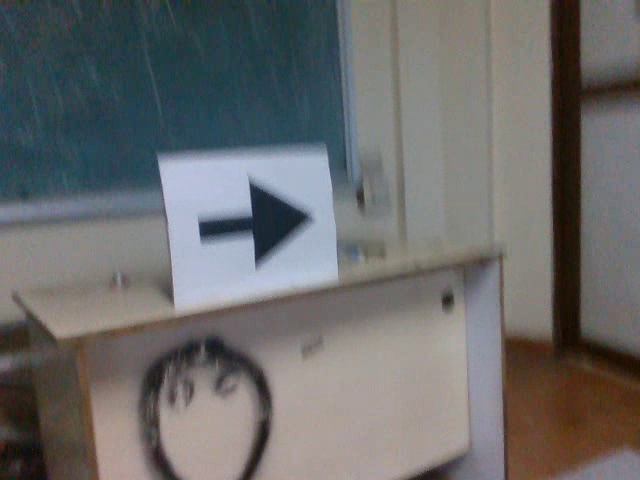Right: (192, 166, 317, 275)
